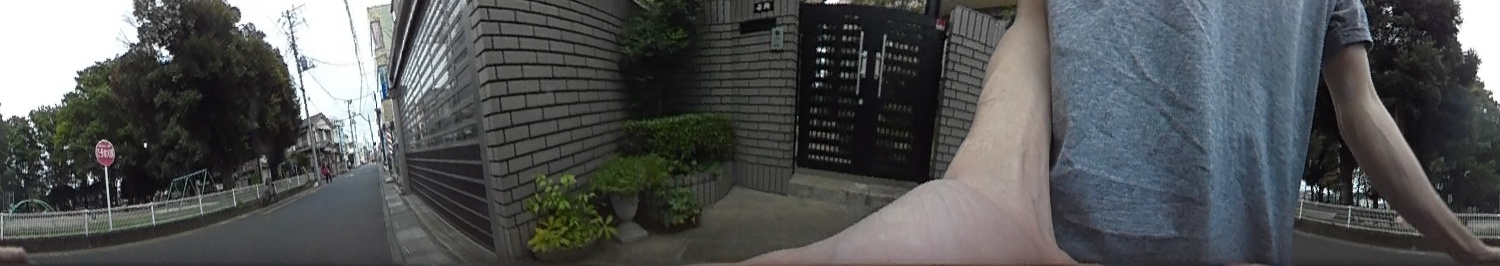difficult_person: (320, 160, 335, 184)
